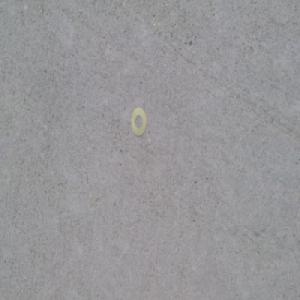Washer: (129, 107, 146, 138)
